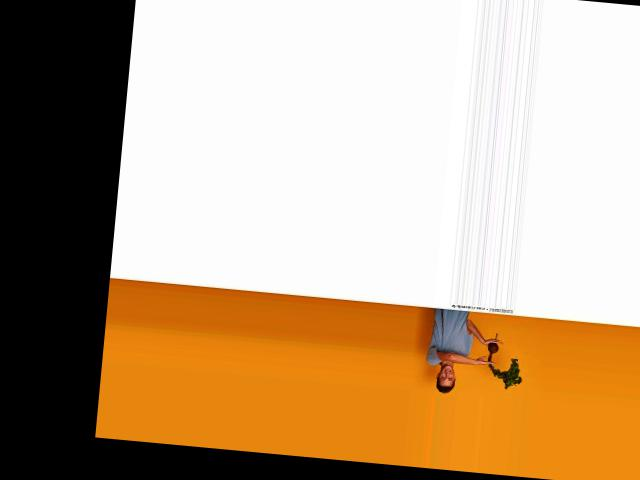beet: (484, 332, 526, 390)
